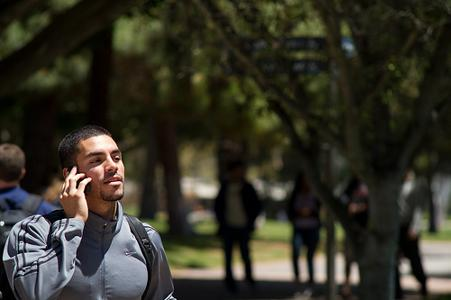person: (3, 130, 180, 300)
